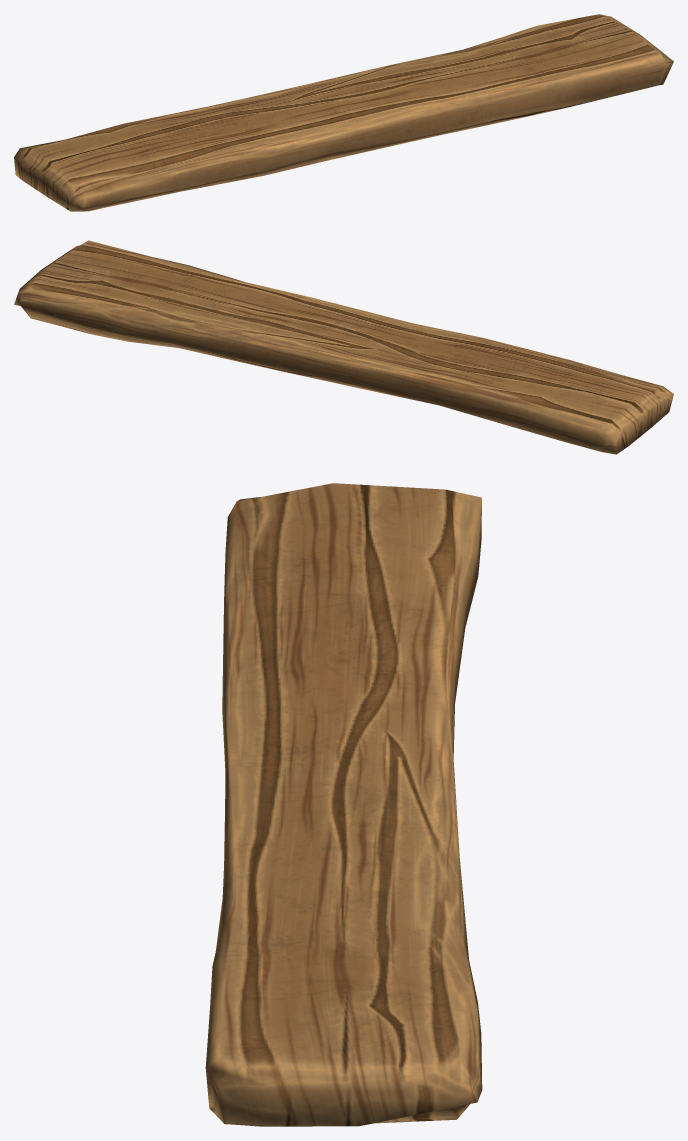
File: SM_Planks_02.fbx
3 views of the same model, one above another, from view 1: azimuth 30°, elevation 25°; view 2: azimuth 150°, elevation 25°; view 3: azimuth 270°, elevation 25° (orthographic). The views are drawn at different scales.
Parts seen in each view (by area): view 1: SM_Planks_02; view 2: SM_Planks_02; view 3: SM_Planks_02.
Boxes of the visible parts, x1,y1,x2,y2 form: SM_Planks_02: (14, 14, 673, 211); SM_Planks_02: (14, 240, 673, 454); SM_Planks_02: (205, 483, 482, 1126).
Bounding box in the file's own units: 600 × 39.15 × 120.
Materials: 1 (1 with a texture image).
